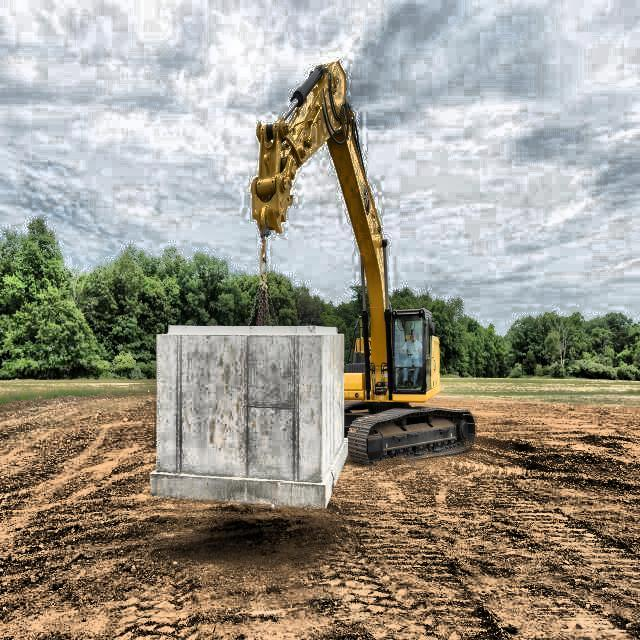excavator: (226, 56, 476, 473)
